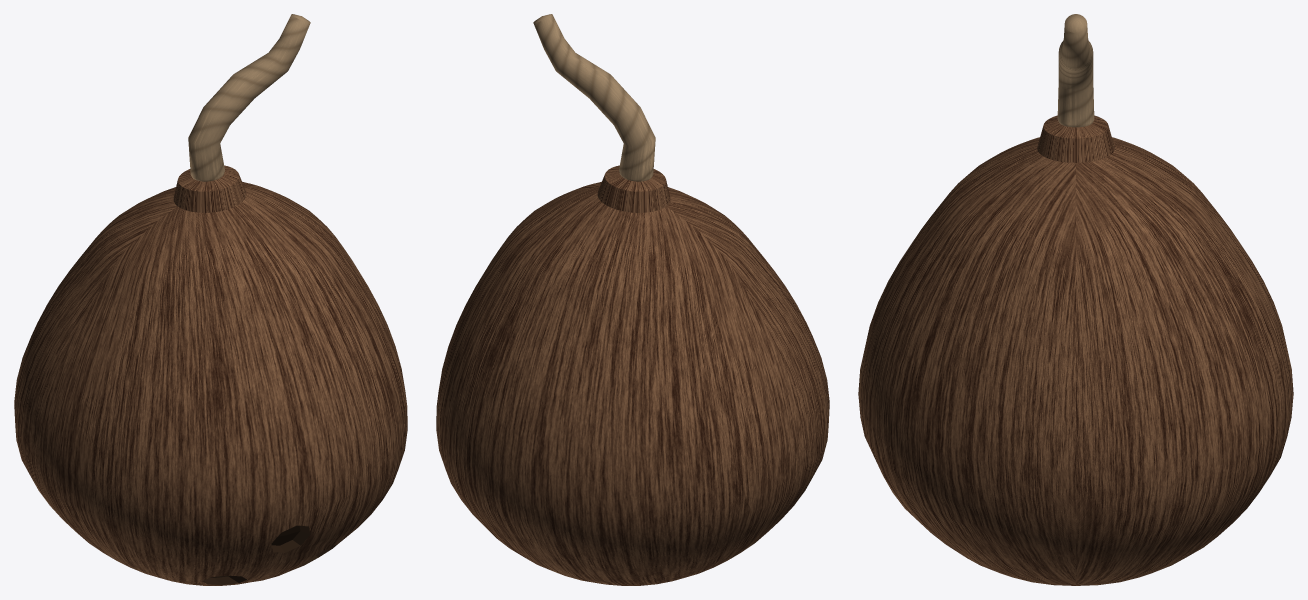
Rendered from coconut_bomb_no_hair.glb.
3 renders of one model, left to right at view 1: azimuth 30°, elevation 25°; view 2: azimuth 150°, elevation 25°; view 3: azimuth 270°, elevation 25°, orthographic. The views are drawn at different scales.
Parts seen in each view (by area): view 1: Sphere.003, Sphere; view 2: Sphere.003, Sphere; view 3: Sphere.003, Sphere.
Boxes of the visible parts, x1,y1,x2,y2 form: Sphere.003: (14,165,407,585); Sphere: (188,14,310,181); Sphere.003: (436,165,829,585); Sphere: (533,14,655,181); Sphere.003: (858,115,1293,585); Sphere: (1057,14,1094,127).
Bounding box in the file's own units: 1.79 × 2.66 × 1.78.
2 materials, 2 textured.
